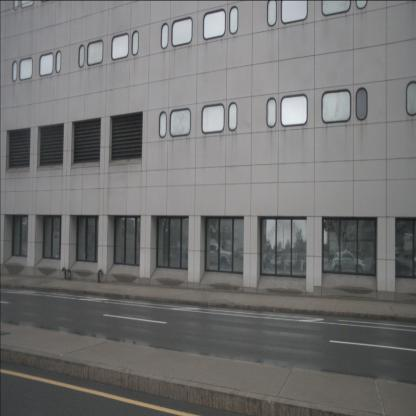vehicle-car: (370, 254, 411, 277), (197, 243, 233, 269), (332, 251, 366, 274), (285, 252, 301, 272), (344, 249, 363, 265), (270, 253, 284, 270), (258, 254, 270, 270)
vehicle-truck: (404, 233, 415, 258)
